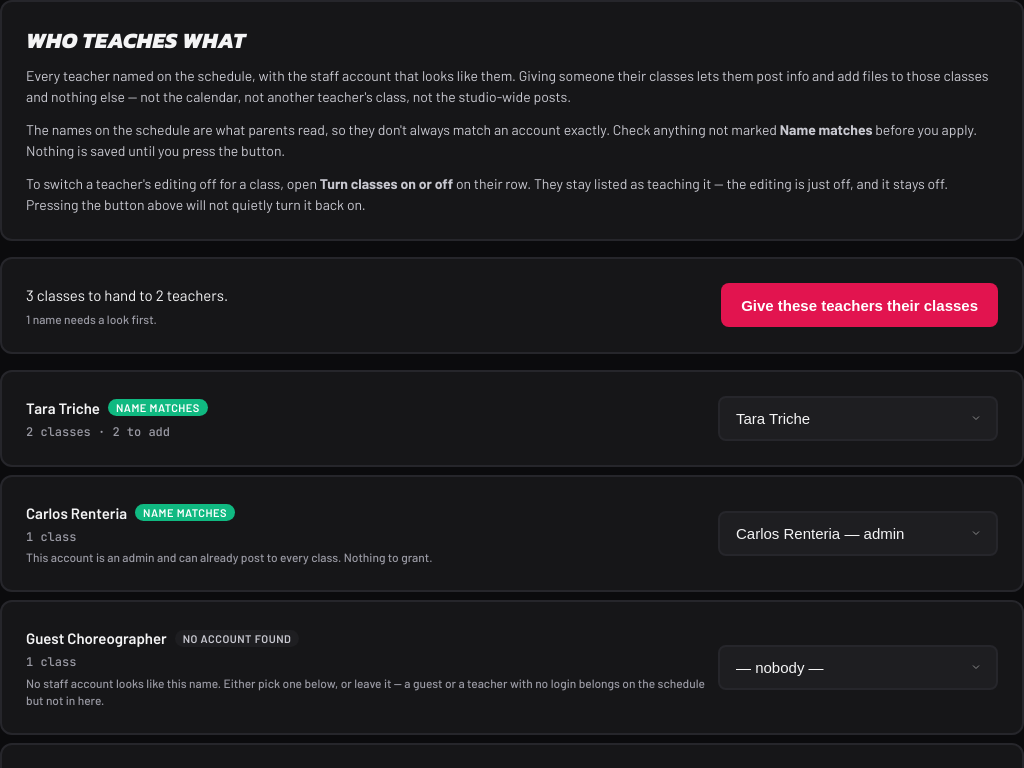
Test case: applying › says nothing was changed when the write failed
Expected: the dropdown named "Staff account for Tara Triche" is shown, [718,396,998,441]
Click the button "Give these teachers their classes" at x=860, y=305, box [721,283,998,327]
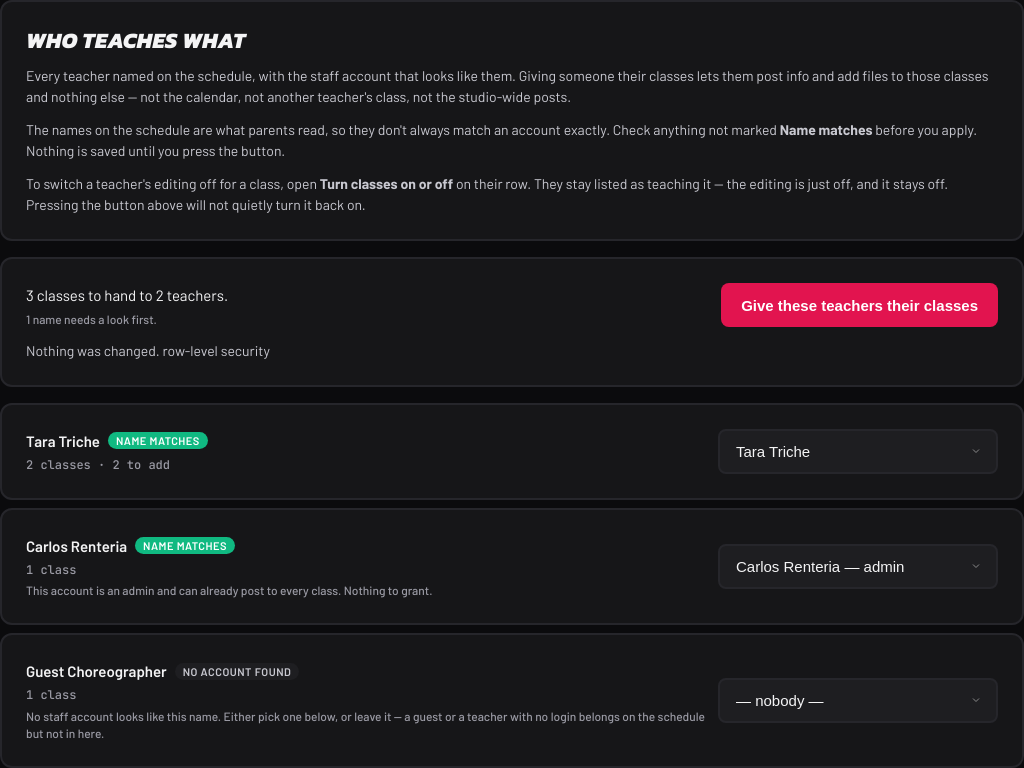
Now the message shows "Nothing was changed", box [26,342,270,359]
